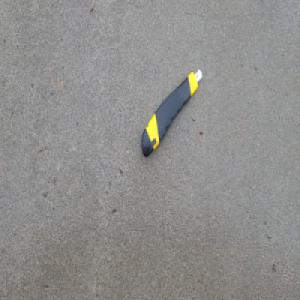Cutter: (140, 69, 202, 161)
